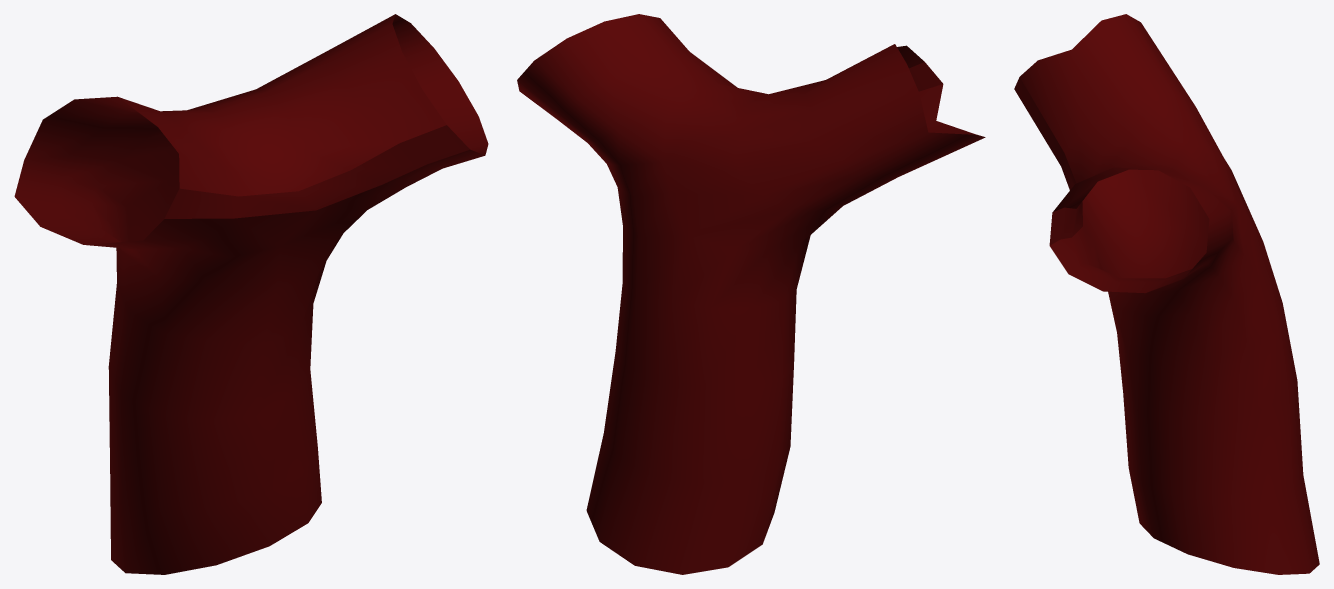
Rendered from Celiac_trunk.FBX.
3 renders of one model, left to right at view 1: azimuth 30°, elevation 25°; view 2: azimuth 150°, elevation 25°; view 3: azimuth 270°, elevation 25°, orthographic. The views are drawn at different scales.
Parts seen in each view (by area): view 1: Celiac_trunk-Snapshot; view 2: Celiac_trunk-Snapshot; view 3: Celiac_trunk-Snapshot.
Part boxes in pixels (x1,y1,x2,y2): Celiac_trunk-Snapshot: (14,14,488,574); Celiac_trunk-Snapshot: (517,14,985,574); Celiac_trunk-Snapshot: (1014,14,1319,574).
Bounding box in the file's own units: 11.32 × 12.45 × 7.24.
